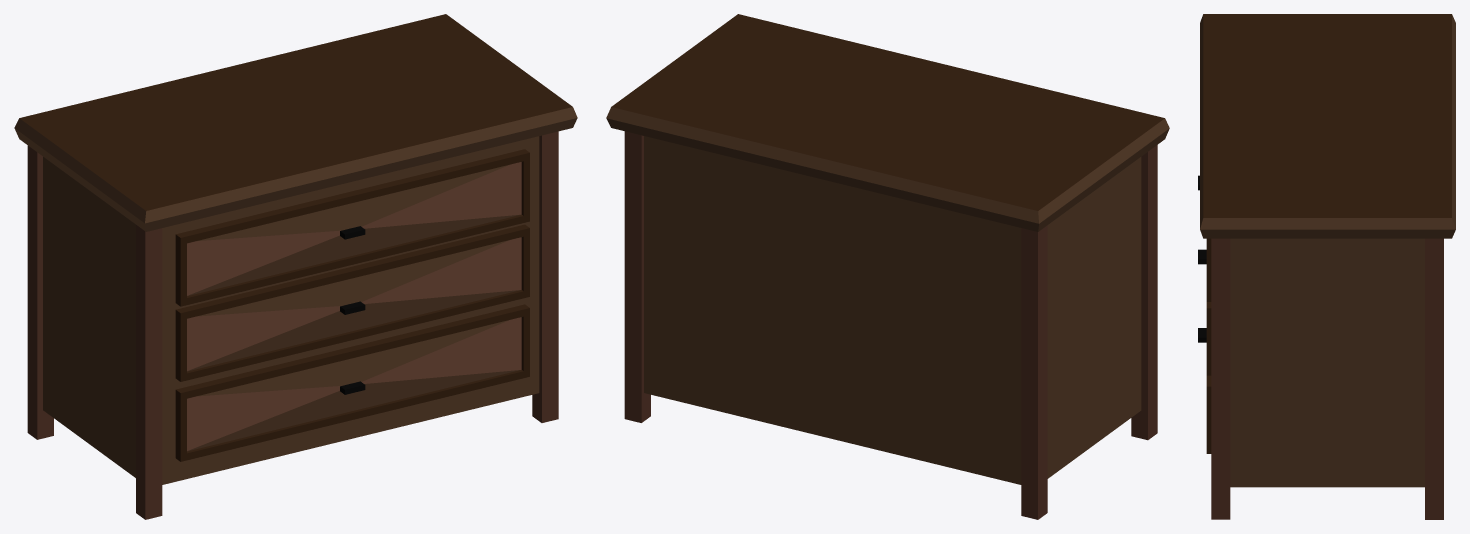
File: Furnit 2.glb
3 views of the same model, side by side, from view 1: azimuth 30°, elevation 25°; view 2: azimuth 150°, elevation 25°; view 3: azimuth 270°, elevation 25° (orthographic). The views are drawn at different scales.
Parts seen in each view (by area): view 1: Furnit 2; view 2: Furnit 2; view 3: Furnit 2.
Boxes of the visible parts, bbox=[...] form: Furnit 2: bbox=[14, 14, 577, 519]; Furnit 2: bbox=[606, 14, 1169, 519]; Furnit 2: bbox=[1198, 14, 1455, 519].
Size of what is drawn, in the model's own units: 1.59 by 1.1 by 0.8397.
Materials: 1 (1 with a texture image).
